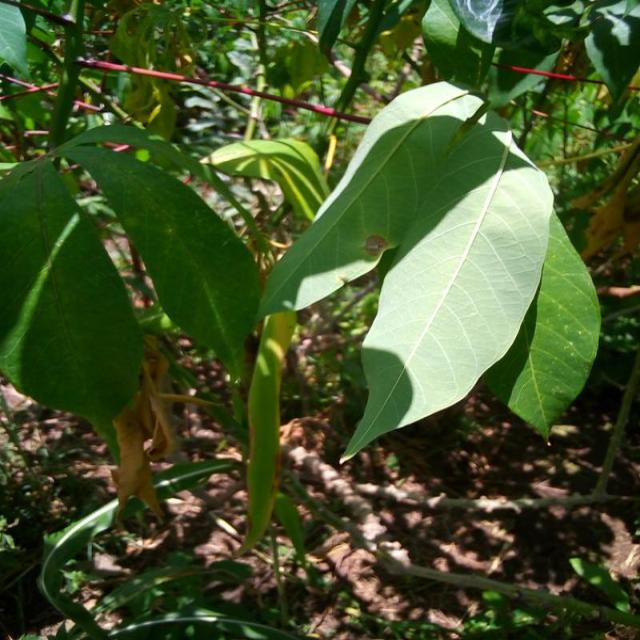cassava leaf: (338, 129, 554, 465), (256, 79, 510, 320), (48, 134, 262, 384), (0, 154, 145, 465), (482, 204, 600, 442)
